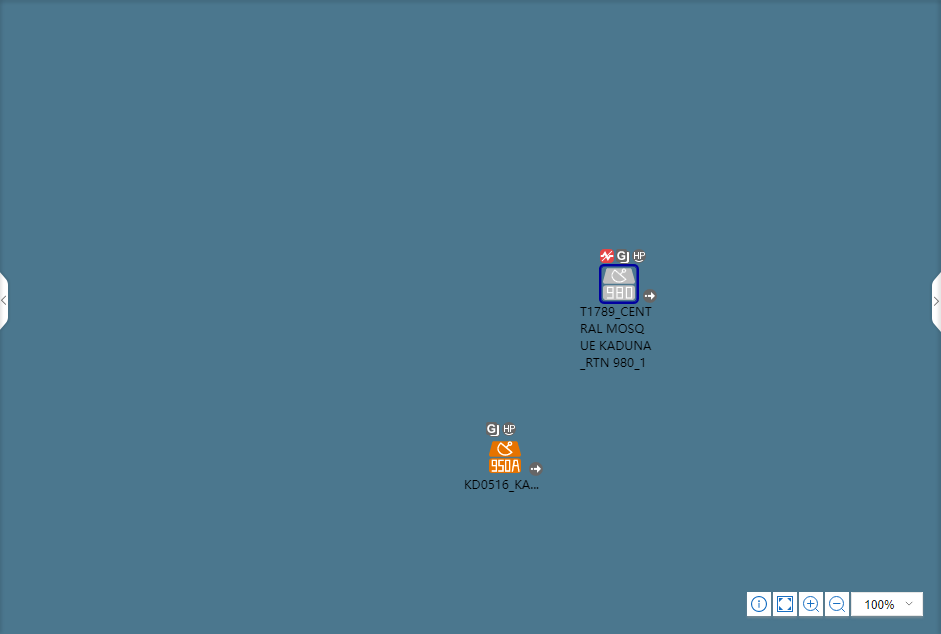RTN_Gray: (601, 267, 635, 301)
RTN_Orange: (489, 442, 520, 474)
